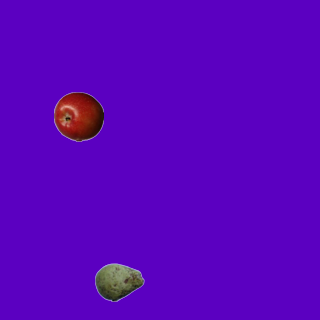Apple Braeburn: (53, 91, 103, 141)
Pear Stone: (94, 257, 144, 307)
